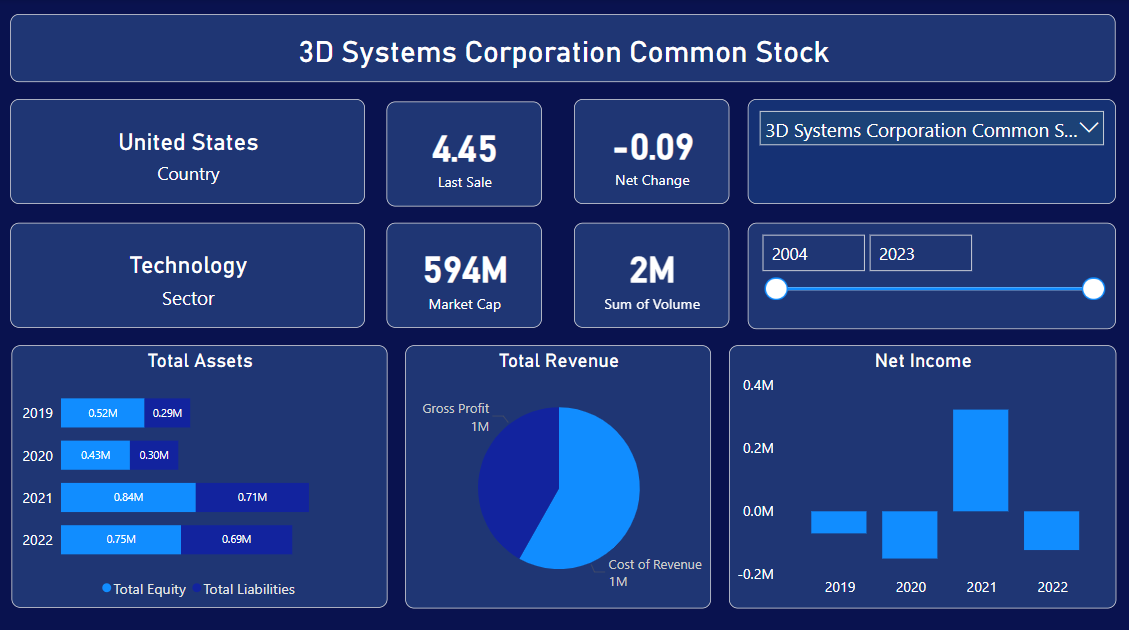

What the dashboard file says about the page in this screenshot:
{"tool":"powerbi","page":{"name":"Page 1","canvas":[1280,720],"ordinal":0},"visuals":[{"type":"columnChart","title":"Net Income","fields":{"Category":["cleaned_financials.Period Ending:.Variation.Date Hierarchy.Year"],"Y":["Sum(cleaned_financials.Net Income)"]},"box":[823.3,390,436.7,296.7],"z":0},{"type":"slicer","title":"Company Name","fields":{"Values":["nasdaq_screener.Name"]},"box":[845,113.3,415,118.3],"z":1000},{"type":"pieChart","title":"Total Revenue","fields":{"Y":["Sum(cleaned_financials.Cost of Revenue)","Sum(cleaned_financials.Gross Profit)"]},"box":[458.3,390,345,296.7],"z":2000},{"type":"barChart","title":"Total Assets","fields":{"Y":["Sum(cleaned_financials.Total Equity)","Sum(cleaned_financials.Total Liabilities)"],"Category":["cleaned_financials.Period Ending:.Variation.Date Hierarchy.Year"]},"box":[14,390,424,296],"z":3000},{"type":"card","fields":{"Values":["Sum(nasdaq_screener.Last Sale)"]},"box":[436.7,115,175,118.3],"z":4000},{"type":"card","fields":{"Values":["Sum(nasdaq_screener.Market Cap)"]},"box":[436.7,251.7,175,118.3],"z":5000},{"type":"slicer","title":"Year","fields":{"Values":["cleaned_financials.Period Ending:.Variation.Date Hierarchy.Year"]},"box":[845,251.7,415,120],"z":6000},{"type":"card","fields":{"Values":["Sum(nasdaq_screener.Net Change)"]},"box":[648.3,113.3,175,118.3],"z":7000},{"type":"card","fields":{"Values":["Min(nasdaq_screener.Name)"]},"box":[13.3,16.7,1246.7,76.7],"z":8000},{"type":"card","fields":{"Values":["Min(nasdaq_screener.Country)"]},"box":[13.3,113.3,400,118.3],"z":9000},{"type":"card","fields":{"Values":["Min(nasdaq_screener.Sector)"]},"box":[13.3,251.7,400,118.3],"z":10000},{"type":"card","fields":{"Values":["Sum(nasdaq_screener.Volume)"]},"box":[648.3,251.7,175,118.3],"z":11000}]}

Visuals, with their boxes in screenshot pixels (x1, y1, x2, y2), scaled from the page's 1280x720 canvas onto the 1129x630 screenshot:
"Net Income" columnChart: rect(726, 341, 1111, 601)
"Company Name" slicer: rect(745, 99, 1111, 203)
"Total Revenue" pieChart: rect(404, 341, 709, 601)
"Total Assets" barChart: rect(12, 341, 386, 600)
card - Sum(nasdaq_screener.Last Sale): rect(385, 101, 540, 204)
card - Sum(nasdaq_screener.Market Cap): rect(385, 220, 540, 324)
"Year" slicer: rect(745, 220, 1111, 325)
card - Sum(nasdaq_screener.Net Change): rect(572, 99, 726, 203)
card - Min(nasdaq_screener.Name): rect(12, 15, 1111, 82)
card - Min(nasdaq_screener.Country): rect(12, 99, 365, 203)
card - Min(nasdaq_screener.Sector): rect(12, 220, 365, 324)
card - Sum(nasdaq_screener.Volume): rect(572, 220, 726, 324)
